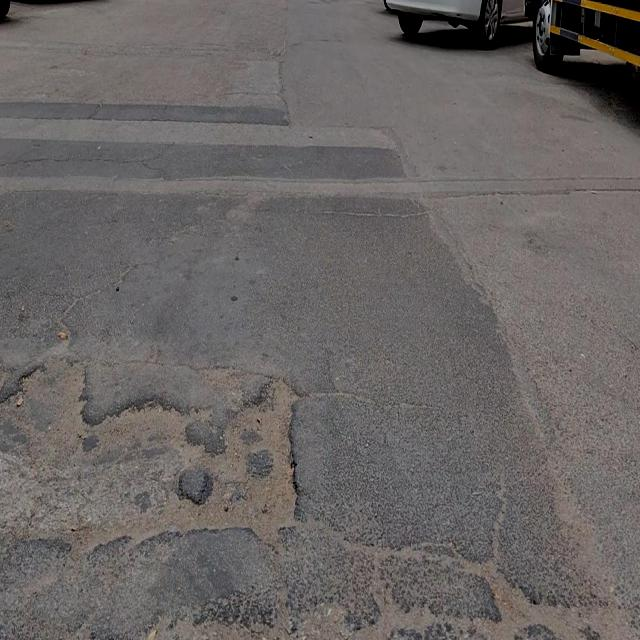Potholes: (177, 366, 301, 554), (68, 393, 194, 551)
